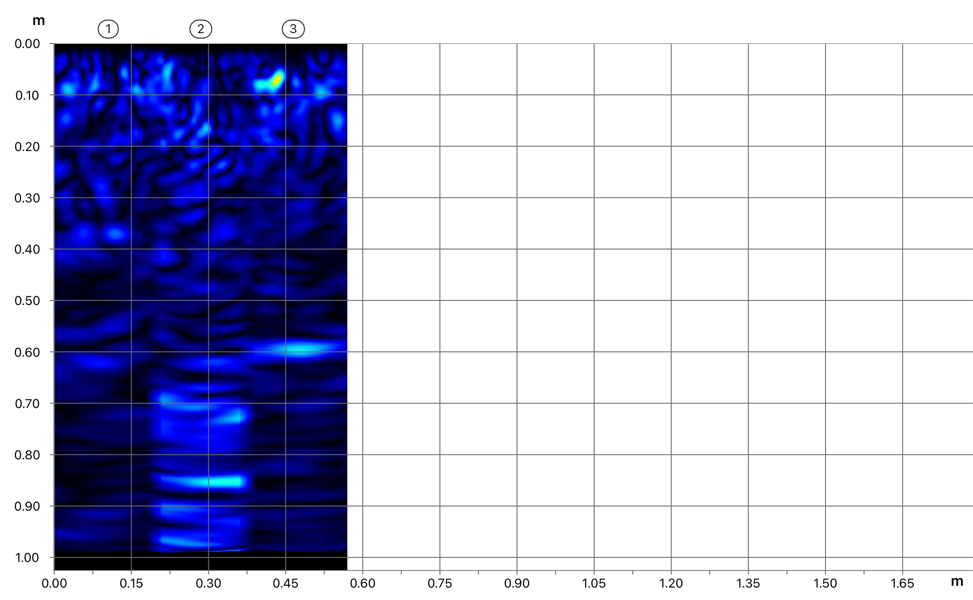crop: (1, 0, 348, 329)
